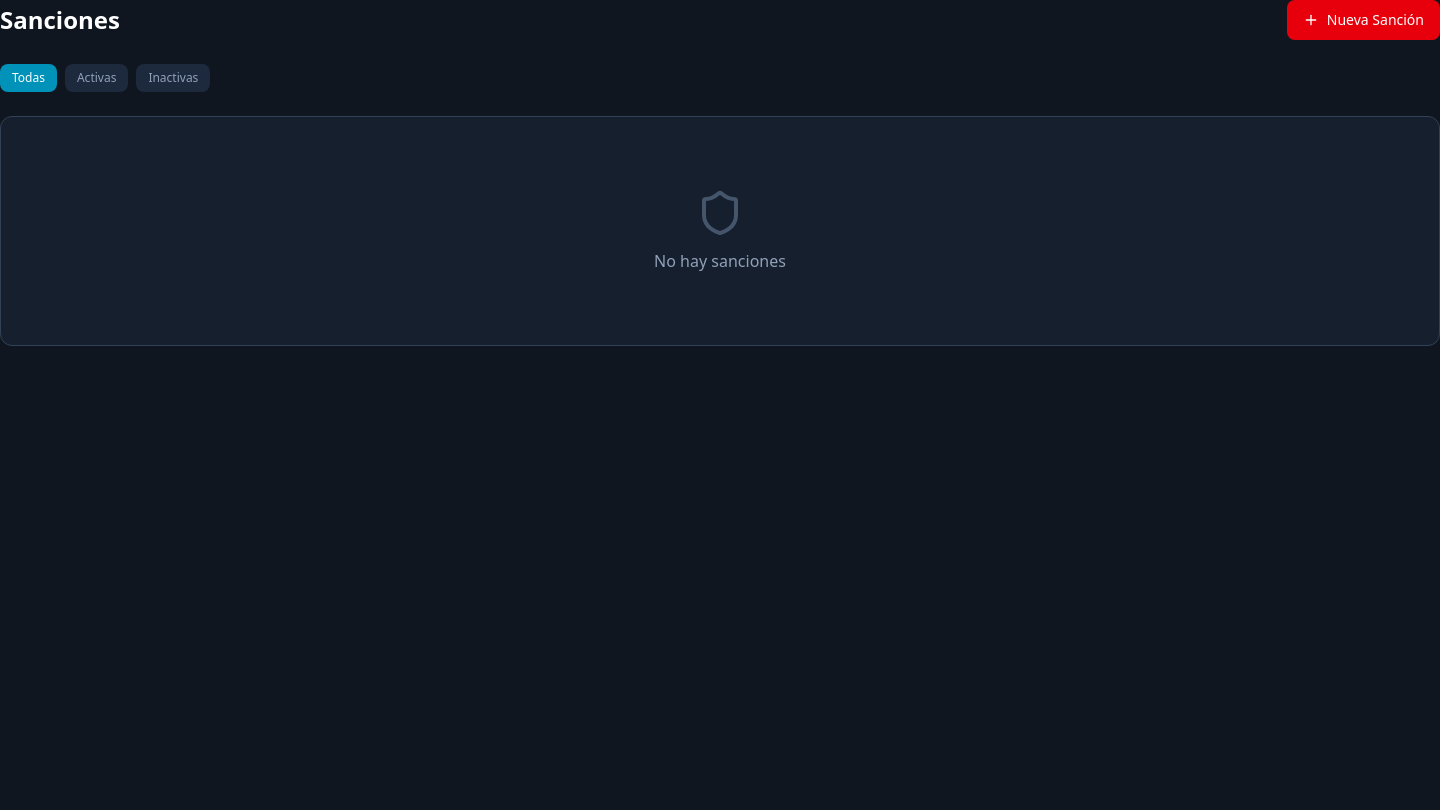
Test: SancionesPage › abre el formulario con tipos válidos y sin fecha de inicio
This screenshot has width=1440, height=810.
Click the button "Nueva Sanción": (1363, 20) x1=1287 y1=0 x2=1439 y2=40
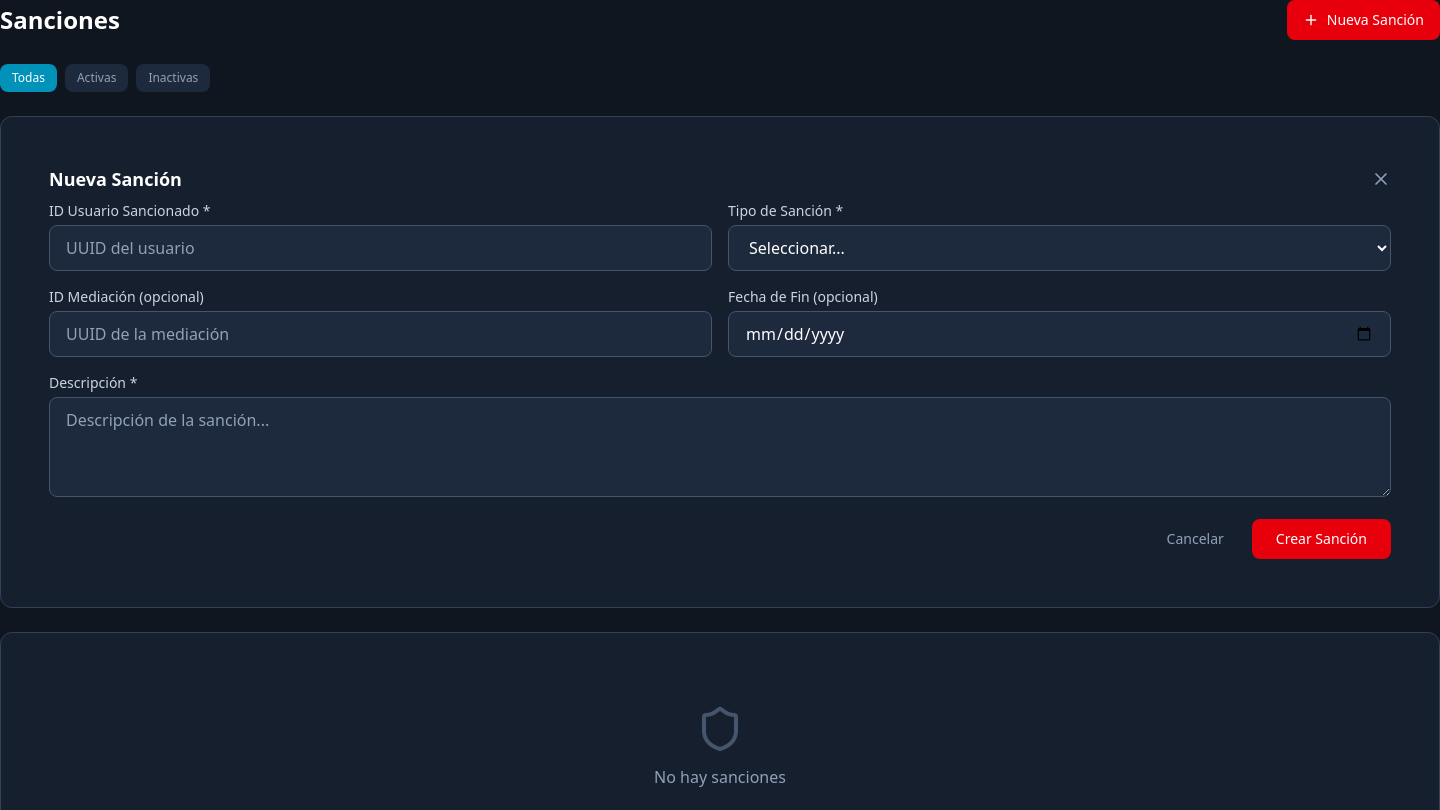
Check: the text "Fecha de Fin (opcional)" is shown, box x1=728 y1=287 x2=878 y2=306
